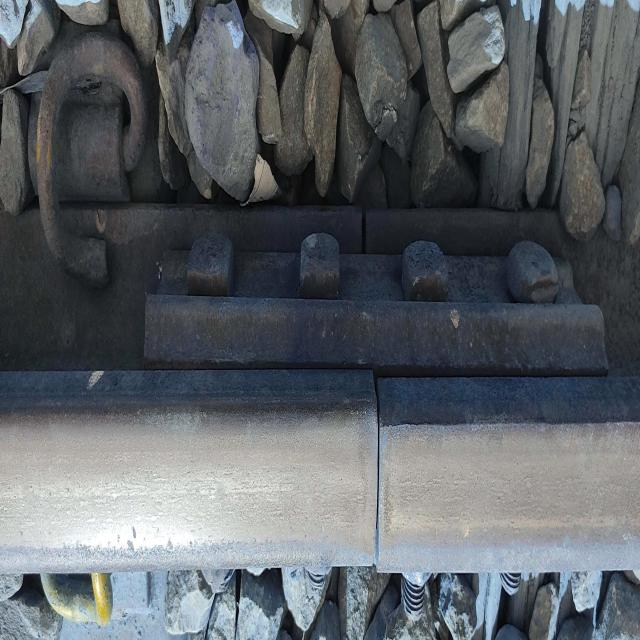Good Fasteners: (28, 27, 148, 286), (40, 572, 148, 626)
Good Joint: (145, 233, 607, 376)
